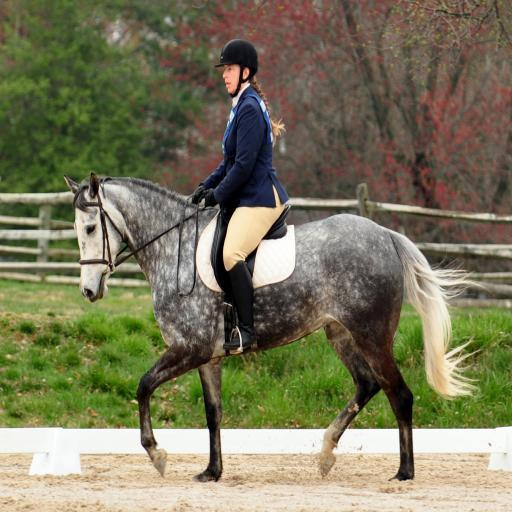horse: (62, 174, 486, 484)
